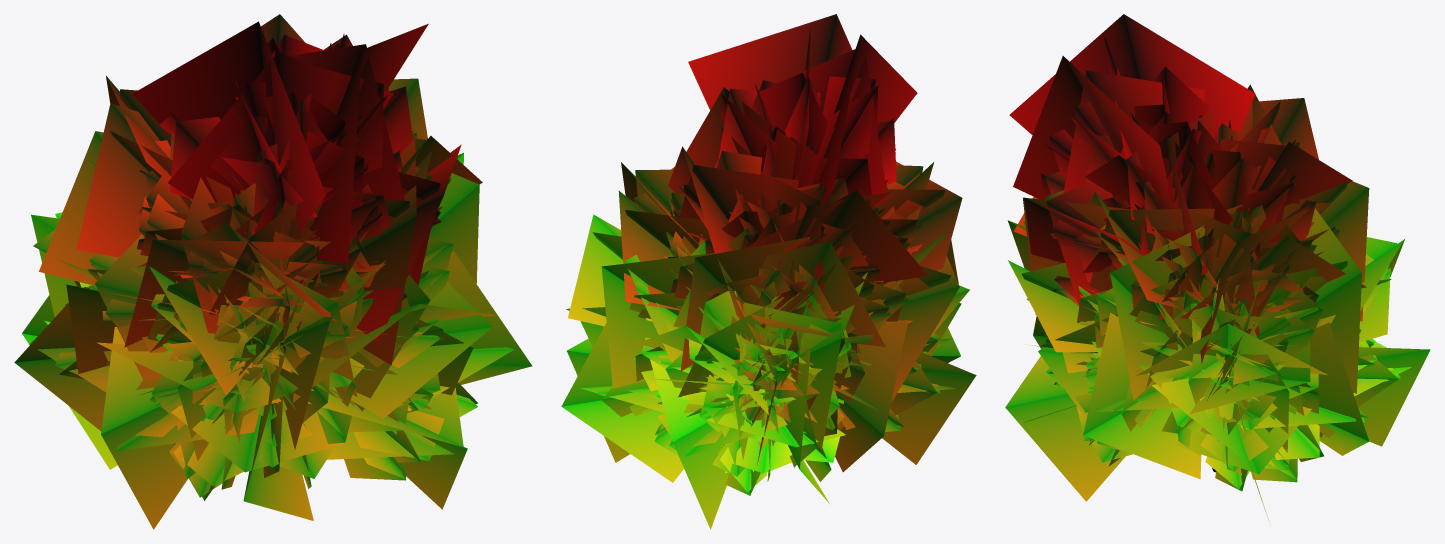
The model's file is linden_tree_4.FBX.
3 renders of one model, left to right at view 1: azimuth 30°, elevation 25°; view 2: azimuth 150°, elevation 25°; view 3: azimuth 270°, elevation 25°, orthographic. The views are drawn at different scales.
Parts seen in each view (by area): view 1: linden_leaves_shadow, linden_leaves_lod_0; view 2: linden_leaves_shadow, linden_leaves_lod_0; view 3: linden_leaves_shadow, linden_leaves_lod_0.
Part boxes in pixels (bbox=[...]): linden_leaves_shadow: bbox=[14, 14, 532, 529]; linden_leaves_lod_0: bbox=[55, 34, 477, 500]; linden_leaves_shadow: bbox=[561, 14, 976, 529]; linden_leaves_lod_0: bbox=[597, 72, 940, 495]; linden_leaves_shadow: bbox=[1005, 14, 1430, 520]; linden_leaves_lod_0: bbox=[1027, 66, 1400, 491].
Size of what is drawn, in the model's own units: 22.94 by 25.52 by 22.92.
